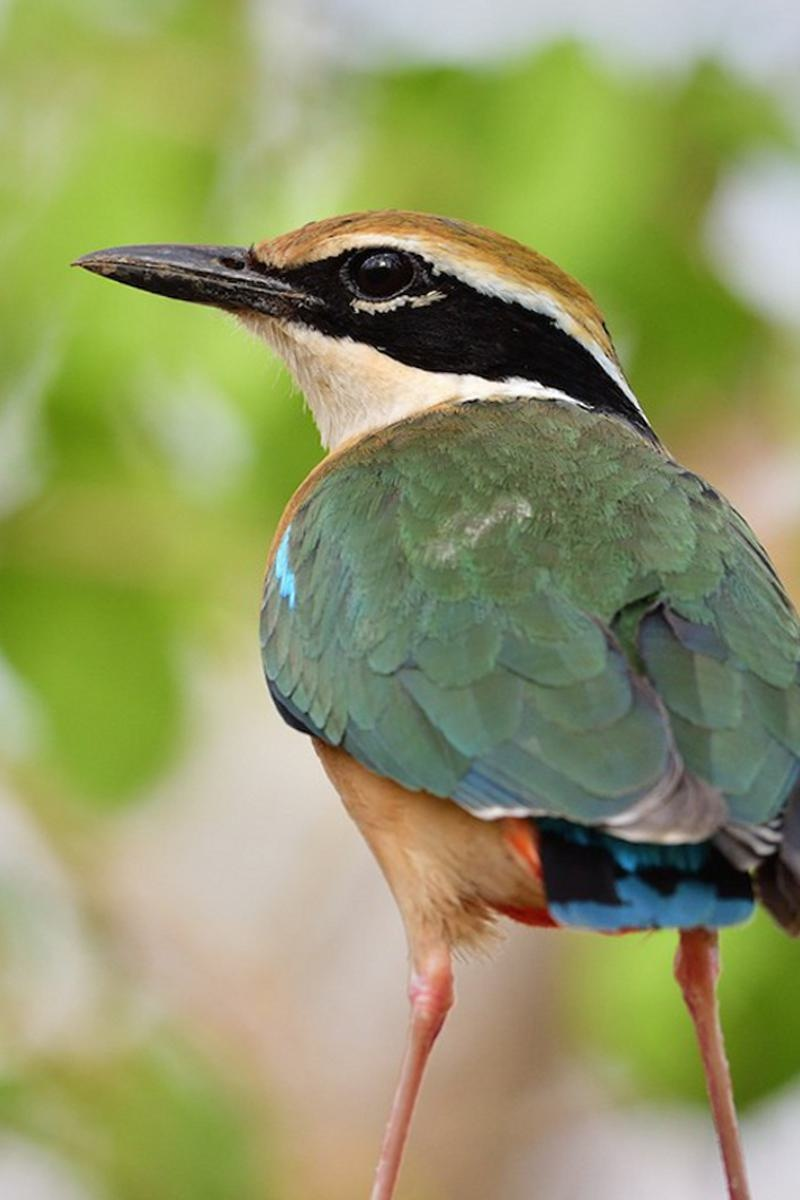pitta: (75, 192, 800, 1200)
